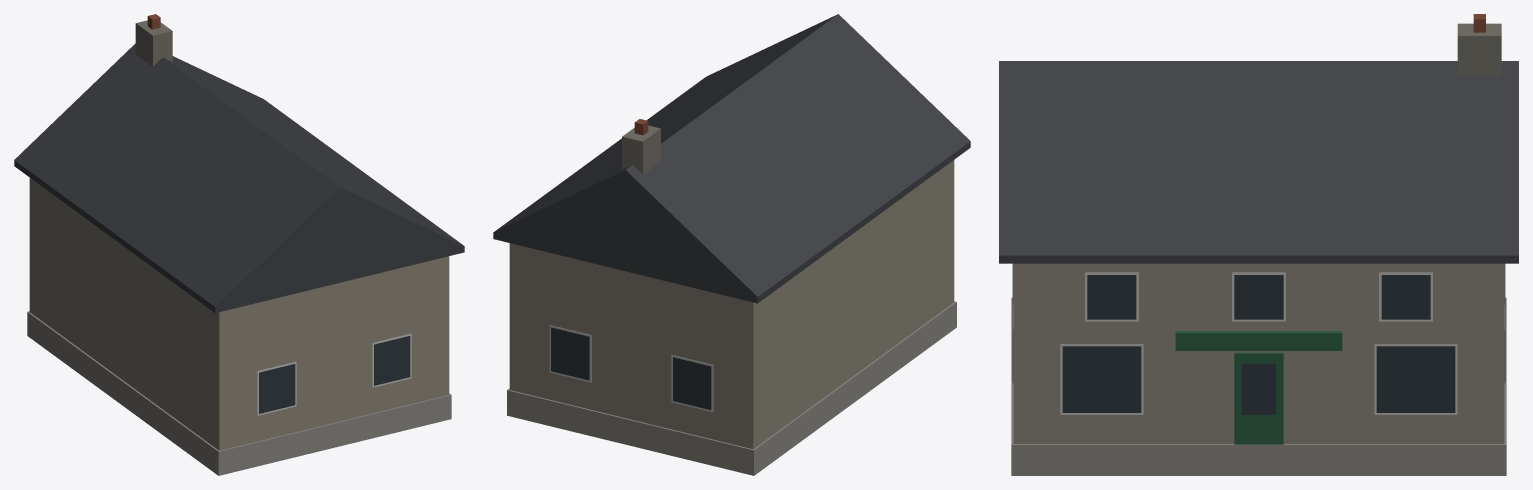
The model's file is SM_Prop_cafe_building_6_LOD1.glb.
3 views of the same model, side by side, from view 1: azimuth 30°, elevation 25°; view 2: azimuth 150°, elevation 25°; view 3: azimuth 270°, elevation 25° (orthographic). The views are drawn at different scales.
Visible parts, largest first — view 1: SM_Prop_cafe_building_6_LOD1; view 2: SM_Prop_cafe_building_6_LOD1; view 3: SM_Prop_cafe_building_6_LOD1.
Part boxes in pixels (bbox=[...]): SM_Prop_cafe_building_6_LOD1: bbox=[14, 14, 464, 475]; SM_Prop_cafe_building_6_LOD1: bbox=[493, 14, 970, 475]; SM_Prop_cafe_building_6_LOD1: bbox=[999, 14, 1518, 475].
Size of the model in its own units: 7.6 by 8.68 by 10.6.
